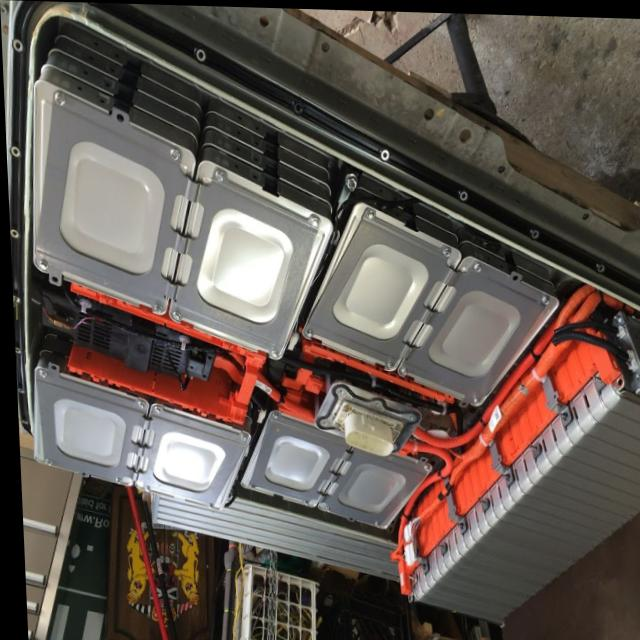Battery Module: (43, 119, 314, 336), (415, 396, 640, 617), (314, 227, 538, 387), (34, 387, 239, 498), (255, 426, 418, 514)
Bolt: (31, 365, 49, 385), (166, 142, 183, 161), (30, 256, 50, 270), (36, 453, 53, 469), (166, 308, 184, 322), (136, 480, 151, 496), (208, 169, 224, 183), (150, 300, 164, 316), (366, 514, 380, 530), (304, 213, 319, 227), (298, 326, 314, 339), (363, 202, 374, 220), (198, 497, 212, 511), (241, 479, 255, 493), (468, 389, 481, 404), (417, 457, 430, 472), (51, 94, 65, 107), (130, 397, 142, 412), (106, 473, 119, 486), (439, 243, 453, 255), (234, 428, 248, 440), (470, 257, 481, 272), (396, 364, 409, 376), (316, 500, 329, 512), (295, 494, 308, 506), (147, 404, 162, 414), (538, 291, 549, 304), (267, 345, 278, 358), (381, 355, 391, 369), (267, 408, 277, 420)
Bus-bar: (64, 284, 261, 425), (302, 342, 450, 404)
Cable: (392, 283, 596, 562), (259, 376, 314, 422)
Nut: (340, 171, 362, 195), (412, 555, 425, 575), (555, 407, 569, 423), (497, 463, 508, 482), (450, 517, 462, 533), (430, 538, 443, 551), (474, 492, 483, 508), (525, 438, 536, 451)
